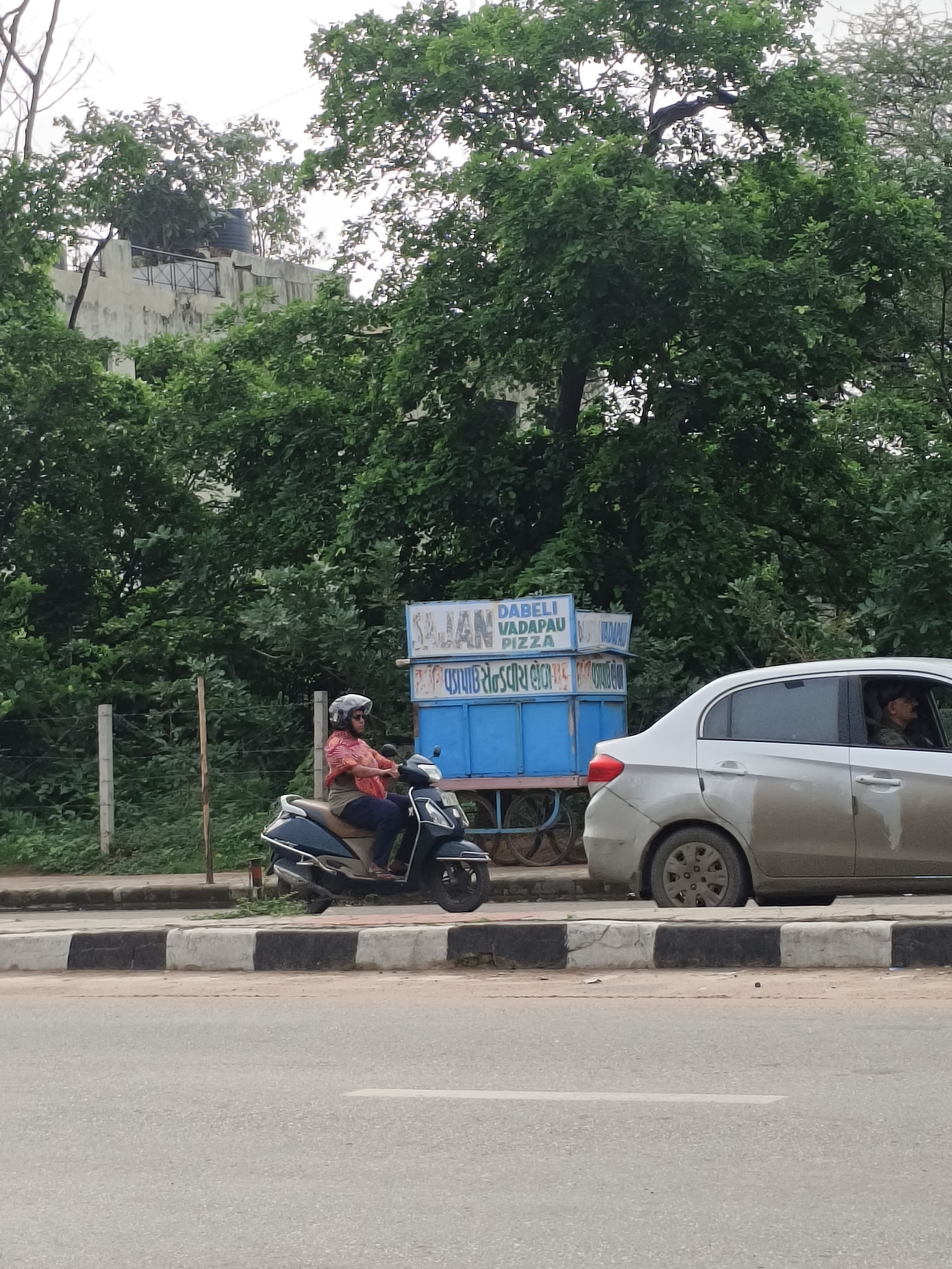BikeWithRider: (256, 688, 493, 921)
Helmet: (322, 690, 377, 739)
